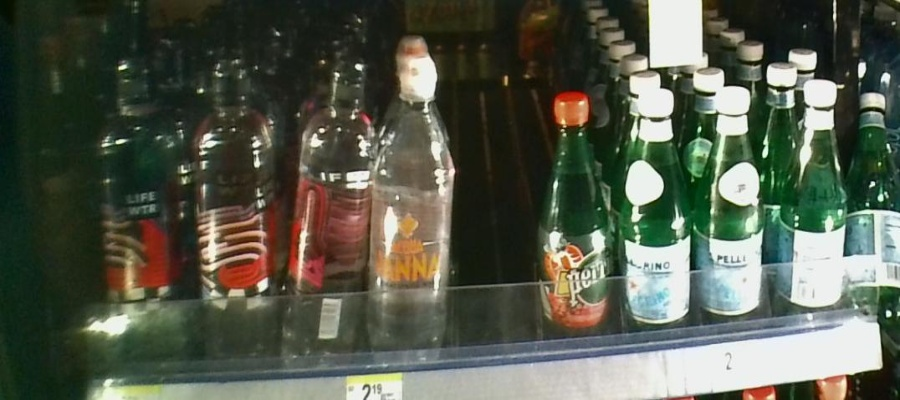bottle: (194, 39, 280, 367), (103, 51, 188, 374), (377, 31, 457, 363), (292, 54, 372, 367), (536, 67, 614, 337), (697, 74, 770, 334), (621, 73, 692, 337), (779, 65, 846, 332)
